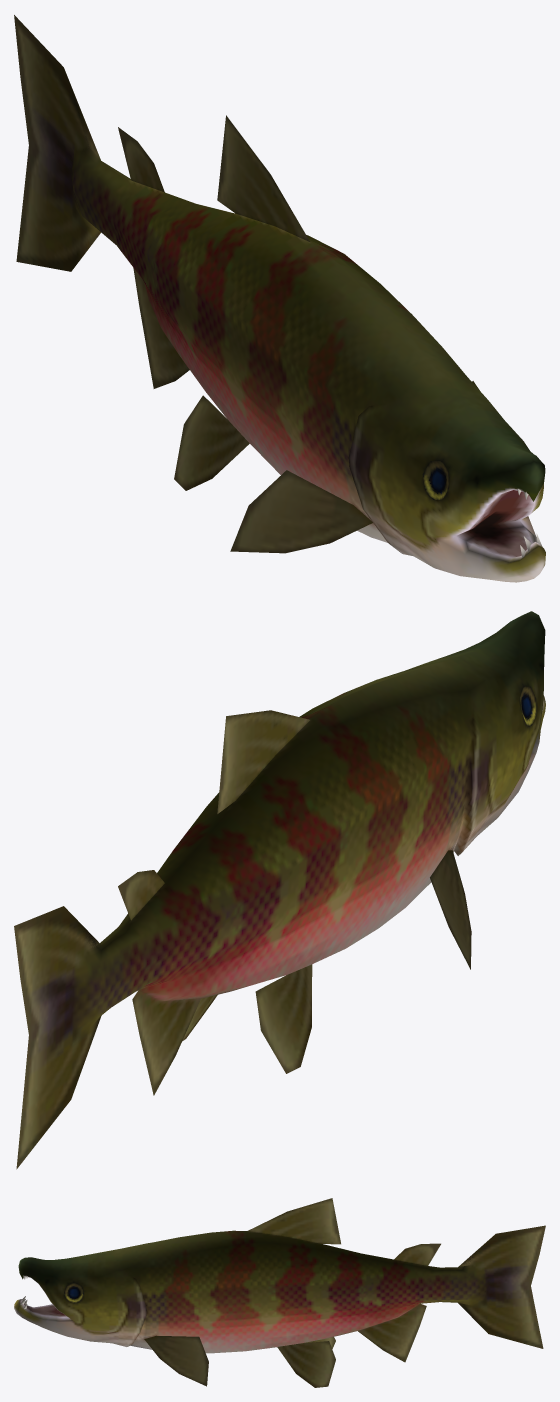
Rendered from Salmon.gltf.
3 views of the same model, one above another, from view 1: azimuth 30°, elevation 25°; view 2: azimuth 150°, elevation 25°; view 3: azimuth 270°, elevation 25° (orthographic). The views are drawn at different scales.
Visible parts, largest first — view 1: FishSake__mSake; view 2: FishSake__mSake; view 3: FishSake__mSake.
Part boxes in pixels (x1,y1,x2,y2): FishSake__mSake: (14,15,545,582); FishSake__mSake: (14,611,545,1169); FishSake__mSake: (14,1198,545,1387).
Size of the model in its own units: 2.62 by 3.64 by 9.97.
Materials: 1 (1 with a texture image).
